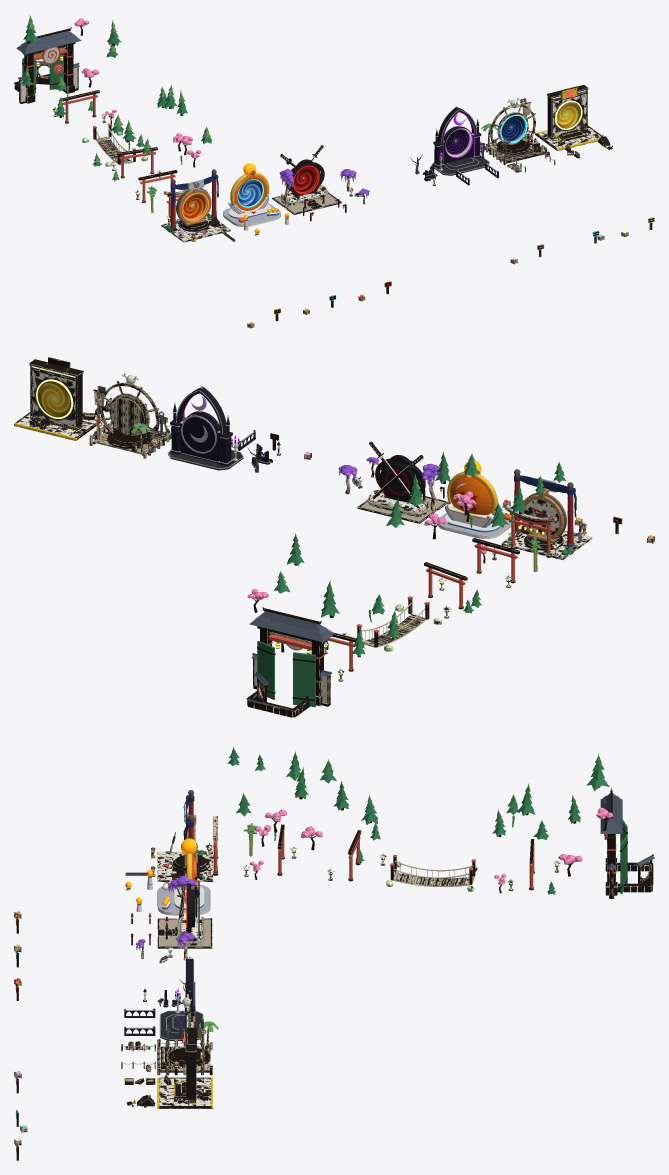
The model's file is LOBBY_06_PORTALS_e4dec7.fbx.
3 renders of one model, top to bottom at view 1: azimuth 30°, elevation 25°; view 2: azimuth 150°, elevation 25°; view 3: azimuth 270°, elevation 25°, orthographic. The views are drawn at different scales.
Visible parts, largest first — view 1: KONOHA_Trees__Leaf_Pine, PORTAL_OnePunchMan_Wall__P_OPM_ConcreteLight, KONOHA_Great_Gate__Wood_Dark, PORTAL_ShadowGarden_MoonArch__P_SG_Obsidian, KONOHA_Trees__Leaf_Pine_Light, KONOHA_Great_Gate__P_Naruto_Tile, KONOHA_Pass_Decor__P_Naruto_Red, PORTAL_DemonSlayer_Tsuba__Stone_DS_Rock, PORTAL_OnePunchMan_Wall__P_OPM_ConcreteDark, PORTAL_DragonBall_Frame__P_DB_White, PORTAL_OnePiece_Pier__Wood_Light, PORTAL_DemonSlayer_Tsuba__P_DS_Iron (+13 smaller); view 2: KONOHA_Trees__Leaf_Pine, KONOHA_Great_Gate__Leaf_Pine, PORTAL_OnePunchMan_Wall__P_OPM_ConcreteLight, PORTAL_OnePiece_Pier__Wood_Dark, PORTAL_DemonSlayer_Tsuba__P_DS_Iron, PORTAL_ShadowGarden_MoonArch__P_SG_Violet, KONOHA_Great_Gate__Wood_Dark, KONOHA_Pass_Decor__P_Naruto_Red, KONOHA_Great_Gate__P_Naruto_Tile, PORTAL_ShadowGarden_MoonArch__P_SG_Obsidian, PORTAL_Naruto_Bandana__Stone_Dark_C, PORTAL_DragonBall_Frame__P_DB_Amber (+13 smaller); view 3: KONOHA_Trees__Leaf_Pine, PORTAL_OnePunchMan_Wall__P_OPM_ConcreteLight, KONOHA_Trees__Sakura_Pink, PORTAL_DemonSlayer_Tsuba__Stone_DS_Rock, KONOHA_Great_Gate__P_Naruto_Tile, PORTAL_OnePiece_Pier__Wood_Dark, PORTAL_OnePunchMan_Wall__P_OPM_ConcreteDark, PORTAL_DemonSlayer_Tsuba__P_DS_Gravel, KONOHA_Great_Gate__Wood_Dark, PORTAL_ShadowGarden_MoonArch__P_OPM_Crater, KONOHA_Pass_Decor__P_Naruto_Red, PORTAL_DemonSlayer_Tsuba__P_DS_Iron (+1 smaller).
Part boxes in pixels (bbox=[...]): KONOHA_Trees__Leaf_Pine: bbox=[21, 23, 212, 180]; PORTAL_OnePunchMan_Wall__P_OPM_ConcreteLight: bbox=[536, 89, 602, 149]; KONOHA_Great_Gate__Wood_Dark: bbox=[19, 27, 78, 101]; PORTAL_ShadowGarden_MoonArch__P_SG_Obsidian: bbox=[433, 107, 481, 167]; KONOHA_Trees__Leaf_Pine_Light: bbox=[24, 15, 210, 197]; KONOHA_Great_Gate__P_Naruto_Tile: bbox=[16, 31, 81, 80]; KONOHA_Pass_Decor__P_Naruto_Red: bbox=[63, 94, 180, 214]; PORTAL_DemonSlayer_Tsuba__Stone_DS_Rock: bbox=[272, 184, 341, 214]; PORTAL_OnePunchMan_Wall__P_OPM_ConcreteDark: bbox=[535, 85, 597, 150]; PORTAL_DragonBall_Frame__P_DB_White: bbox=[223, 166, 280, 226]; PORTAL_OnePiece_Pier__Wood_Light: bbox=[490, 102, 535, 149]; PORTAL_DemonSlayer_Tsuba__P_DS_Iron: bbox=[280, 145, 324, 207]; KONOHA_Trees__Leaf_Pine: bbox=[273, 453, 565, 656]; KONOHA_Great_Gate__Leaf_Pine: bbox=[257, 641, 315, 707]; PORTAL_OnePunchMan_Wall__P_OPM_ConcreteLight: bbox=[15, 364, 102, 439]; PORTAL_OnePiece_Pier__Wood_Dark: bbox=[93, 386, 184, 458]; PORTAL_DemonSlayer_Tsuba__P_DS_Iron: bbox=[369, 441, 425, 508]; PORTAL_ShadowGarden_MoonArch__P_SG_Violet: bbox=[173, 414, 239, 461]; KONOHA_Great_Gate__Wood_Dark: bbox=[253, 606, 330, 703]; KONOHA_Pass_Decor__P_Naruto_Red: bbox=[327, 513, 552, 669]; KONOHA_Great_Gate__P_Naruto_Tile: bbox=[249, 611, 333, 685]; PORTAL_ShadowGarden_MoonArch__P_SG_Obsidian: bbox=[170, 387, 232, 466]; PORTAL_Naruto_Bandana__Stone_Dark_C: bbox=[501, 499, 592, 559]; PORTAL_DragonBall_Frame__P_DB_Amber: bbox=[447, 476, 510, 520]; KONOHA_Trees__Leaf_Pine: bbox=[227, 747, 609, 894]; PORTAL_OnePunchMan_Wall__P_OPM_ConcreteLight: bbox=[159, 1051, 210, 1108]; KONOHA_Trees__Sakura_Pink: bbox=[249, 807, 613, 884]; PORTAL_DemonSlayer_Tsuba__Stone_DS_Rock: bbox=[157, 912, 212, 948]; KONOHA_Great_Gate__P_Naruto_Tile: bbox=[600, 793, 654, 869]; PORTAL_OnePiece_Pier__Wood_Dark: bbox=[121, 1016, 212, 1075]; PORTAL_OnePunchMan_Wall__P_OPM_ConcreteDark: bbox=[158, 1027, 212, 1108]; PORTAL_DemonSlayer_Tsuba__P_DS_Gravel: bbox=[159, 916, 210, 946]; KONOHA_Great_Gate__Wood_Dark: bbox=[607, 788, 652, 896]; PORTAL_ShadowGarden_MoonArch__P_OPM_Crater: bbox=[160, 1011, 202, 1040]; KONOHA_Pass_Decor__P_Naruto_Red: bbox=[213, 830, 534, 888]; PORTAL_DemonSlayer_Tsuba__P_DS_Iron: bbox=[165, 862, 202, 937].
Size of the model in its own units: 250 by 79.13 by 258.
57 materials, 10 textured.
